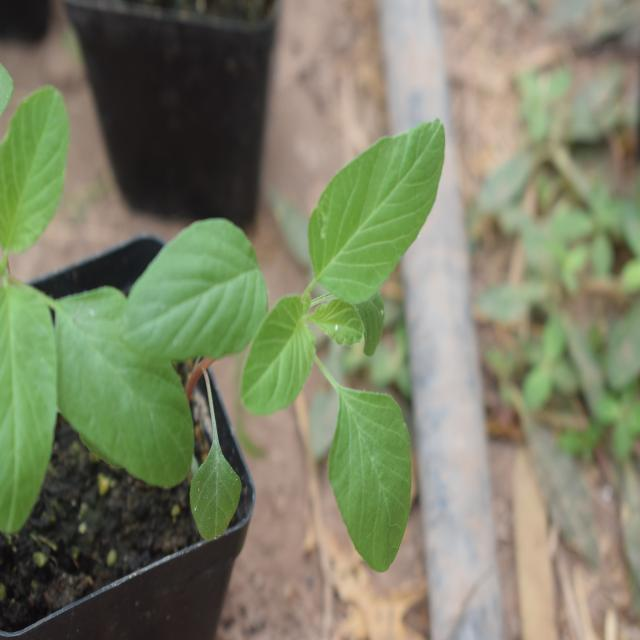pigweed: (155, 118, 457, 566)
